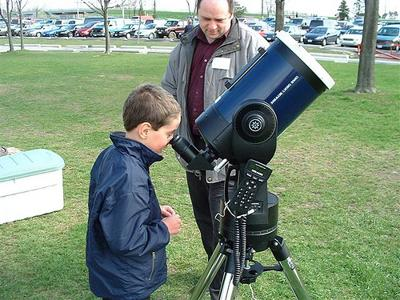person: (86, 83, 184, 300)
